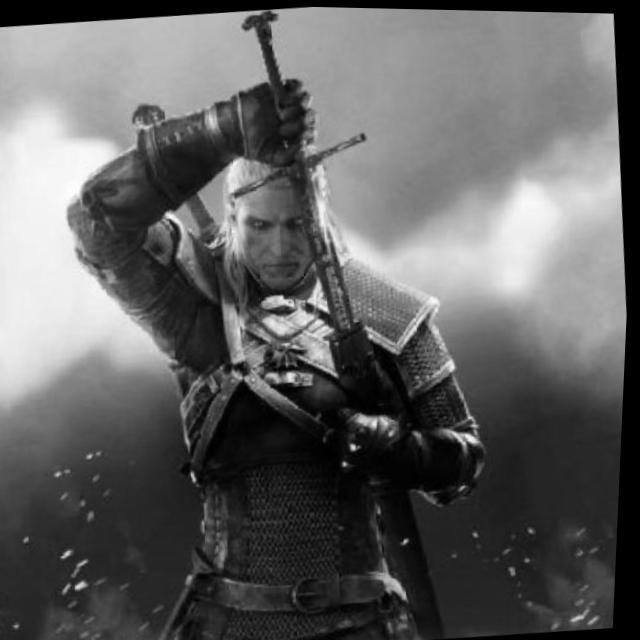weapon: (229, 6, 392, 344)
